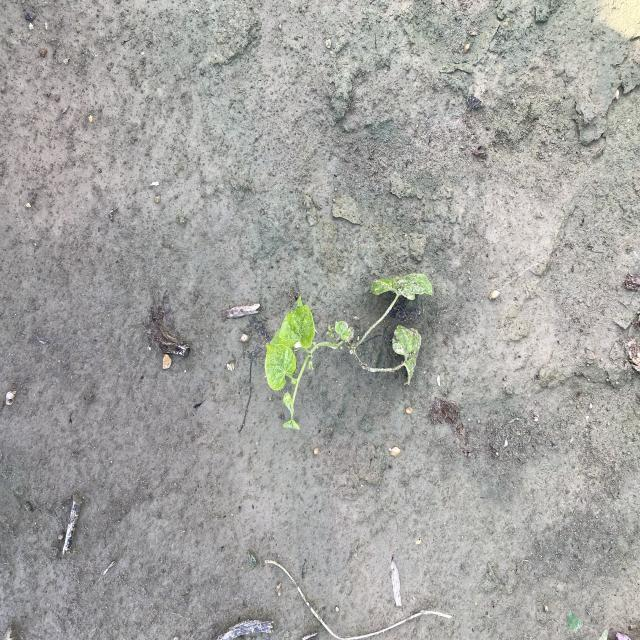MorningGlory: (264, 272, 434, 434)
